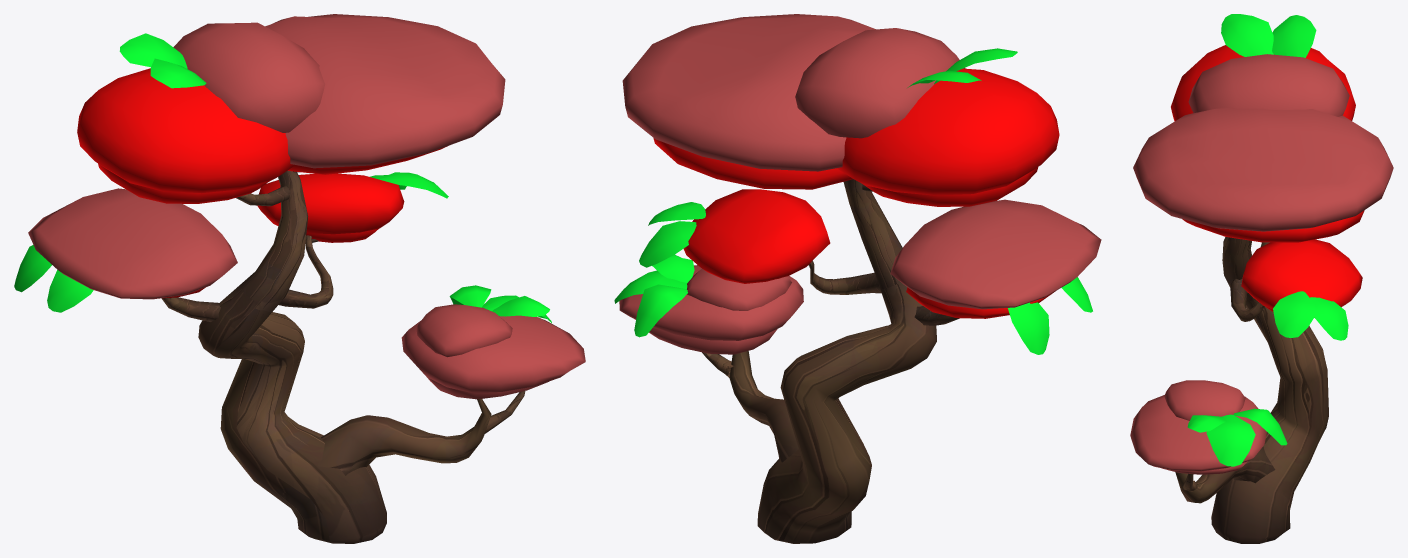
File: SM_Tree_big_01.fbx
3 renders of one model, left to right at view 1: azimuth 30°, elevation 25°; view 2: azimuth 150°, elevation 25°; view 3: azimuth 270°, elevation 25°, orthographic. The views are drawn at different scales.
Parts seen in each view (by area): view 1: SM_Tree_big_01.005; view 2: SM_Tree_big_01.005; view 3: SM_Tree_big_01.005.
Boxes of the visible parts, x1,y1,x2,y2 form: SM_Tree_big_01.005: (14, 14, 585, 543); SM_Tree_big_01.005: (614, 14, 1101, 543); SM_Tree_big_01.005: (1130, 14, 1393, 543).
Bounding box in the file's own units: 9.53 × 9.52 × 5.23.
